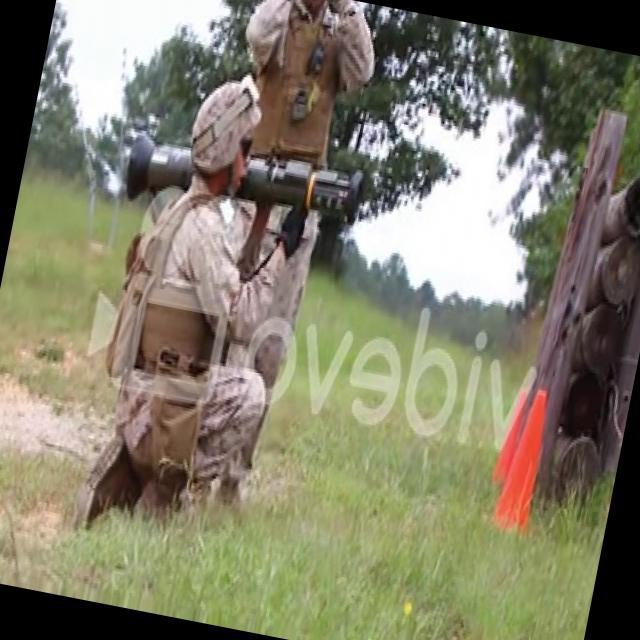rocket: (124, 127, 368, 248)
